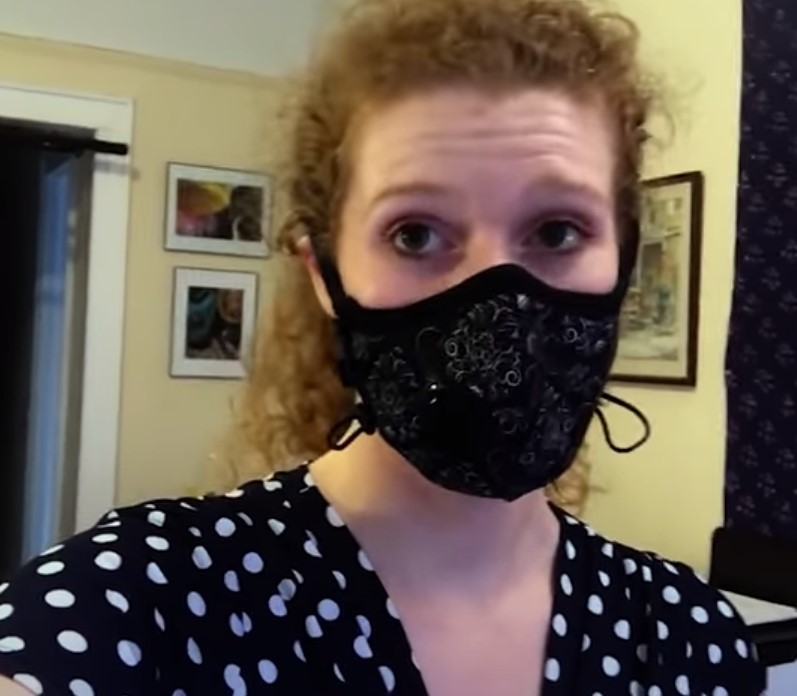face_with_mask: (291, 8, 638, 498)
